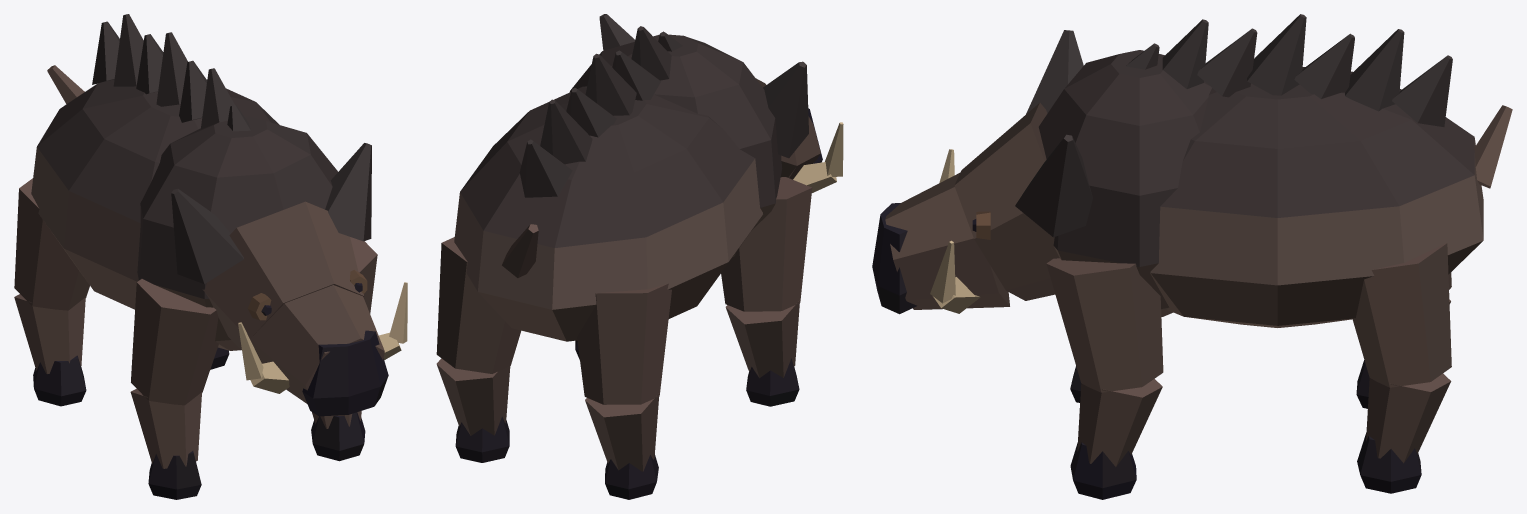
File: rootwood-boar-healthy.glb
3 renders of one model, left to right at view 1: azimuth 30°, elevation 25°; view 2: azimuth 150°, elevation 25°; view 3: azimuth 270°, elevation 25°, orthographic. The views are drawn at different scales.
Visible parts, largest first — view 1: Rootwood boar · healthy; view 2: Rootwood boar · healthy; view 3: Rootwood boar · healthy.
Part boxes in pixels (<box>): Rootwood boar · healthy: <box>14,14,407,499</box>; Rootwood boar · healthy: <box>436,14,843,499</box>; Rootwood boar · healthy: <box>872,14,1512,499</box>.
Size of the model in its own units: 0.4968 by 0.7617 by 1.03.
